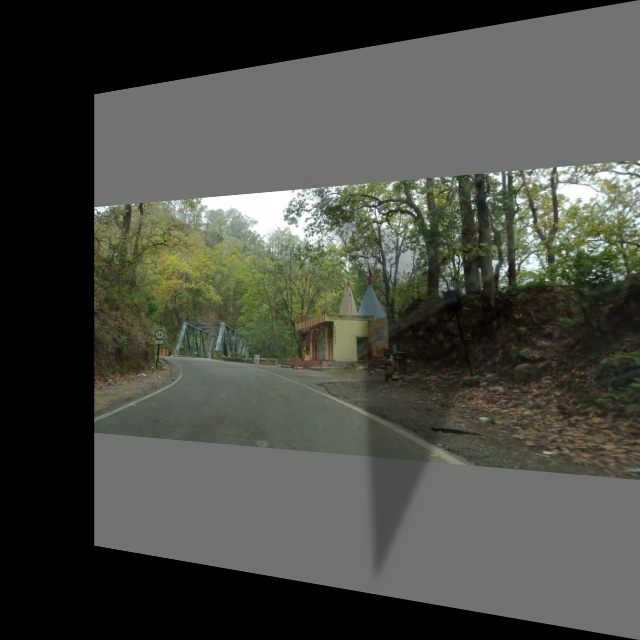Speed_Limit_20: (154, 327, 166, 341)
